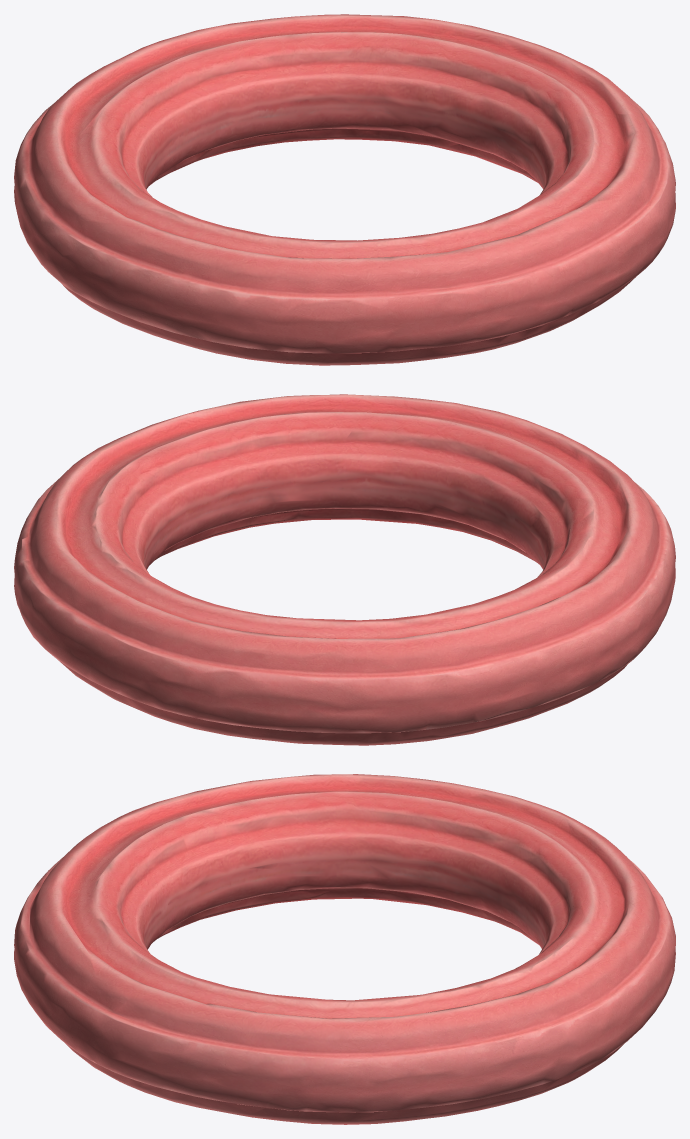
Rendered from Part_MuscleRing.glb.
3 views of the same model, one above another, from view 1: azimuth 30°, elevation 25°; view 2: azimuth 150°, elevation 25°; view 3: azimuth 270°, elevation 25° (orthographic).
Size of the model in its own units: 1.9 by 0.3324 by 1.9.
1 material, 1 textured.
